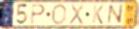5: (15, 3, 29, 26)
K: (92, 4, 105, 25)
N: (107, 4, 125, 26)
O: (51, 3, 68, 26)
P: (29, 4, 46, 26)
X: (68, 3, 85, 25)
